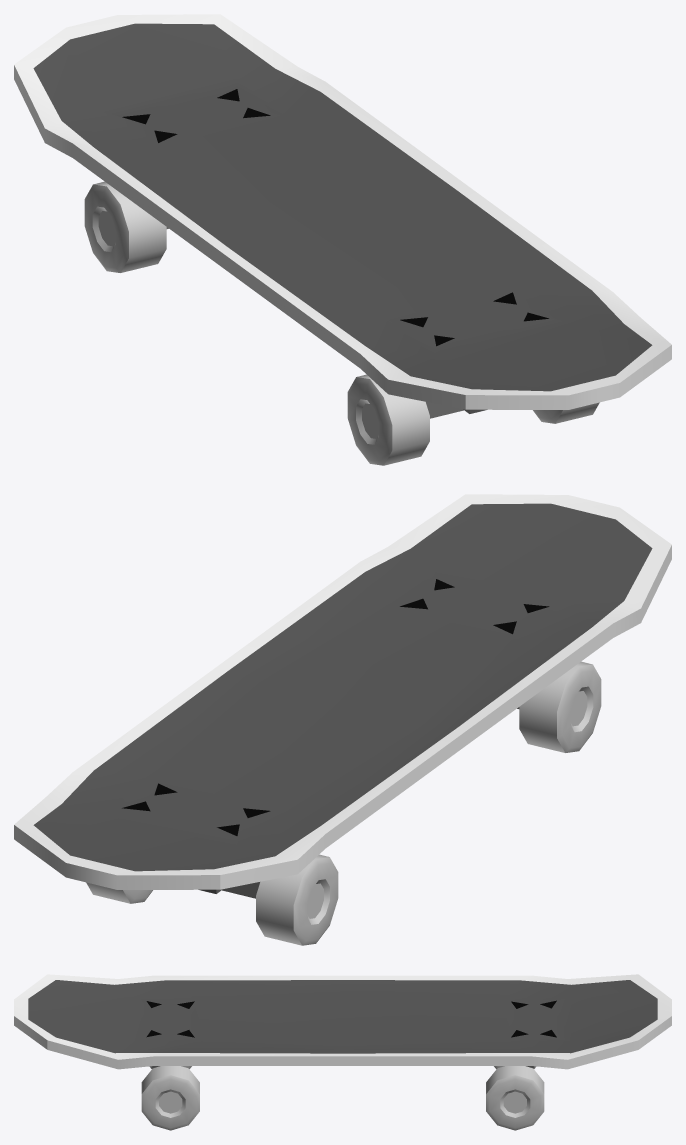
Rendered from Template.obj.
3 views of the same model, one above another, from view 1: azimuth 30°, elevation 25°; view 2: azimuth 150°, elevation 25°; view 3: azimuth 270°, elevation 25° (orthographic). The views are drawn at different scales.
Parts seen in each view (by area): view 1: Board:Deck Board:BOARD, Board:BOARD Board:Truck_F Board:Axl_F Board:Wheel_RF, Board:BOARD Board:Truck_B Board:Axl_B Board:Wheel_LB, Board:BOARD Board:Truck_F Board:Axl_F Board:Wheel_LF; view 2: Board:Deck Board:BOARD, Board:BOARD Board:Truck_B Board:Axl_B Board:Wheel_LB, Board:BOARD Board:Truck_F Board:Axl_F Board:Wheel_RF, Board:BOARD Board:Truck_B Board:Axl_B Board:Wheel_RB; view 3: Board:Deck Board:BOARD, Board:BOARD Board:Truck_B Board:Axl_B Board:Wheel_RB, Board:BOARD Board:Truck_F Board:Axl_F Board:Wheel_LF.
Boxes of the visible parts, x1=… form: Board:Deck Board:BOARD: x1=14, y1=14, x2=671, y2=409; Board:BOARD Board:Truck_F Board:Axl_F Board:Wheel_RF: x1=347, y1=374, x2=429, y2=465; Board:BOARD Board:Truck_B Board:Axl_B Board:Wheel_LB: x1=84, y1=181, x2=166, y2=272; Board:BOARD Board:Truck_F Board:Axl_F Board:Wheel_LF: x1=533, y1=402, x2=599, y2=423; Board:Deck Board:BOARD: x1=14, y1=494, x2=671, y2=889; Board:BOARD Board:Truck_B Board:Axl_B Board:Wheel_LB: x1=256, y1=854, x2=338, y2=945; Board:BOARD Board:Truck_F Board:Axl_F Board:Wheel_RF: x1=519, y1=661, x2=601, y2=752; Board:BOARD Board:Truck_B Board:Axl_B Board:Wheel_RB: x1=86, y1=882, x2=152, y2=903; Board:Deck Board:BOARD: x1=14, y1=974, x2=671, y2=1069; Board:BOARD Board:Truck_B Board:Axl_B Board:Wheel_RB: x1=486, y1=1066, x2=544, y2=1130; Board:BOARD Board:Truck_F Board:Axl_F Board:Wheel_LF: x1=141, y1=1066, x2=199, y2=1130.
Size of what is drawn, in the model's own units: 0.4595 by 0.2384 by 1.58.
